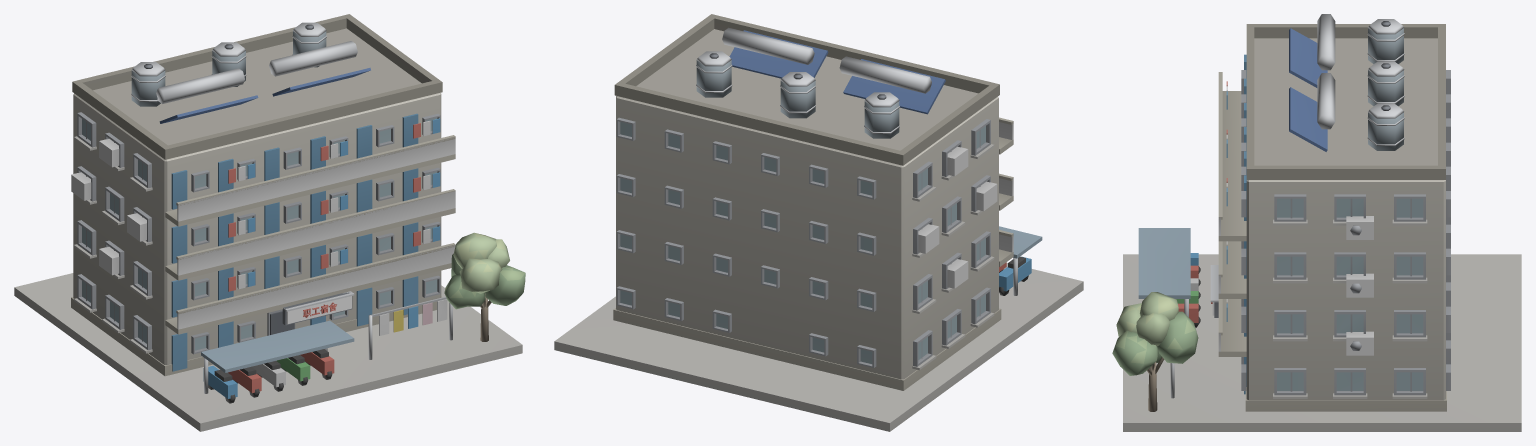
File: dorm.glb
The picture shows the model from 3 angles, left to right: view 1: azimuth 30°, elevation 25°; view 2: azimuth 150°, elevation 25°; view 3: azimuth 270°, elevation 25°; orthographic projection. The views are drawn at different scales.
Visible parts, largest first — view 1: dorm; view 2: dorm; view 3: dorm.
Part boxes in pixels (x1,y1,x2,y2): dorm: [14, 14, 525, 431]; dorm: [554, 14, 1083, 431]; dorm: [1112, 14, 1521, 431].
Bounding box in the file's own units: 2.05 × 1.54 × 2.05.
